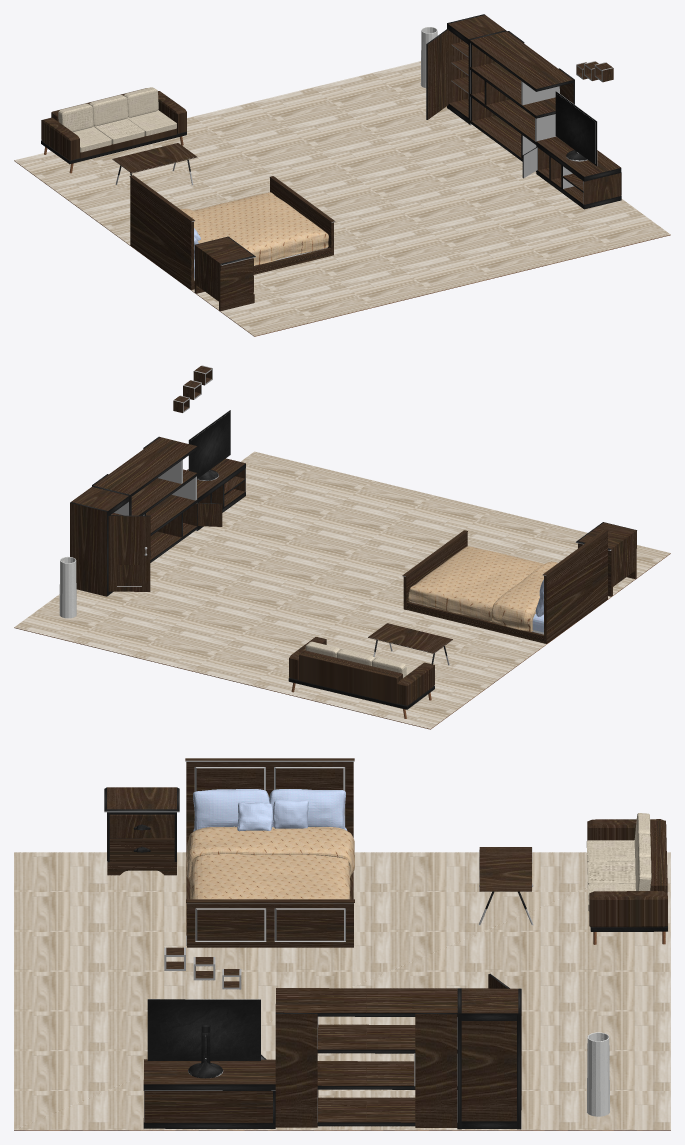
File: T1 Set 2 Pos 7.glb
The picture shows the model from 3 angles, top to bottom: view 1: azimuth 30°, elevation 25°; view 2: azimuth 150°, elevation 25°; view 3: azimuth 270°, elevation 25°; orthographic projection. The views are drawn at different scales.
Size of the model in its own units: 0.2923 by 0.0855 by 0.292.
Materials: 10 (9 with a texture image).
